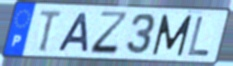3: (125, 13, 158, 57)
A: (56, 11, 90, 54)
L: (186, 15, 212, 58)
M: (150, 13, 194, 57)
T: (38, 9, 65, 54)
Z: (89, 10, 132, 57)
